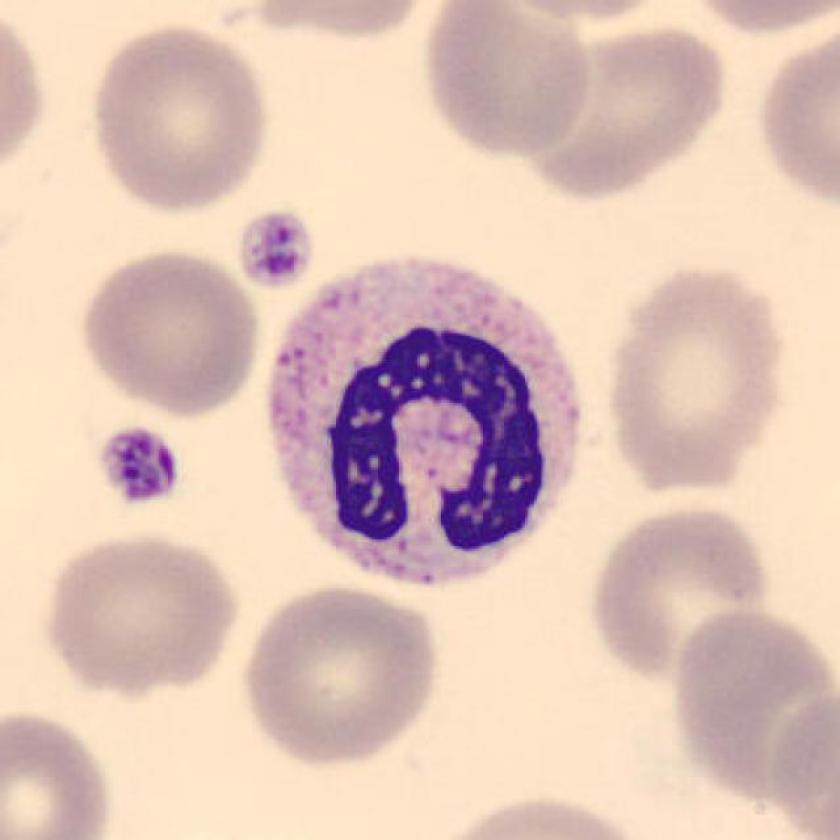neutrophil: (268, 258, 579, 584)
